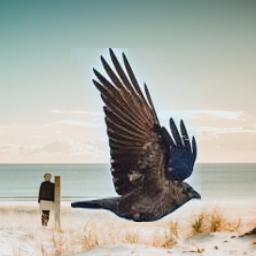Crow: (71, 48, 201, 222)
